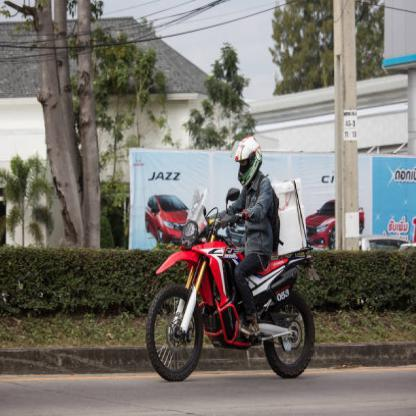Motorcycle: (147, 192, 322, 393)
